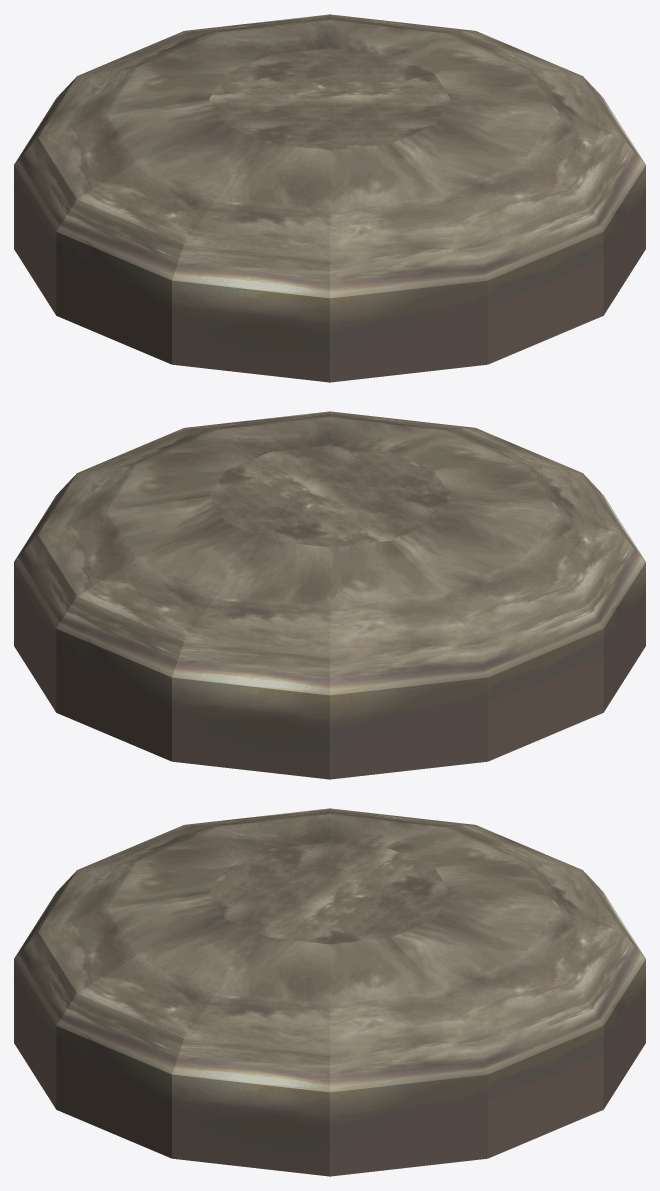
Rendered from recovered_map_mp11.glb.
The picture shows the model from 3 angles, top to bottom: view 1: azimuth 30°, elevation 25°; view 2: azimuth 150°, elevation 25°; view 3: azimuth 270°, elevation 25°; orthographic projection.
Parts seen in each view (by area): view 1: S_sky, S_sky_top; view 2: S_sky, S_sky_top; view 3: S_sky, S_sky_top.
Boxes of the visible parts, x1,y1,x2,y2 form: S_sky: [14, 14, 645, 382]; S_sky_top: [209, 48, 450, 150]; S_sky: [14, 411, 645, 779]; S_sky_top: [209, 445, 450, 547]; S_sky: [14, 808, 645, 1176]; S_sky_top: [209, 842, 450, 944].
Size of what is drawn, in the model's own units: 651 by 181 by 651.
23 materials, 23 textured.
